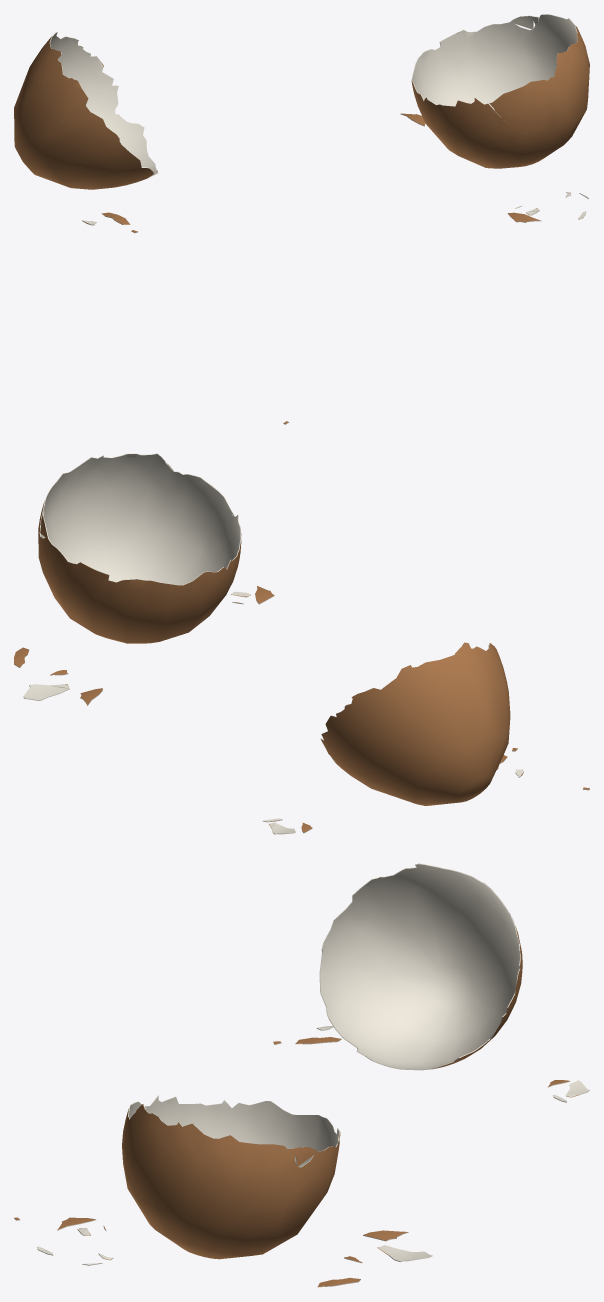
Rendered from Broken_egg_shell.fbx.
3 views of the same model, one above another, from view 1: azimuth 30°, elevation 25°; view 2: azimuth 150°, elevation 25°; view 3: azimuth 270°, elevation 25° (orthographic). The views are drawn at different scales.
Parts seen in each view (by area): view 1: Broken_egg_shell; view 2: Broken_egg_shell; view 3: Broken_egg_shell.
Part boxes in pixels (x1,y1,x2,y2): Broken_egg_shell: (14,14,589,424); Broken_egg_shell: (14,453,589,834); Broken_egg_shell: (14,863,589,1287).
Bounding box in the file's own units: 5.08 × 4.4 × 2.71.
